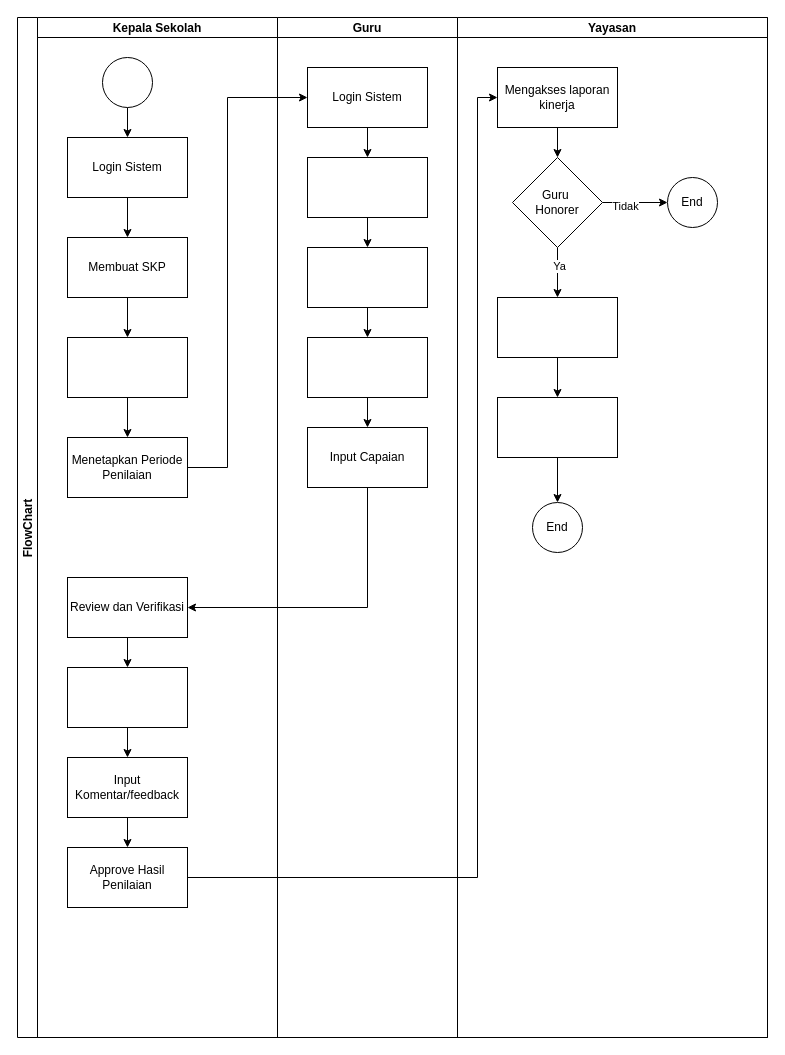
Some shapes in this 785 by 1055 pixel diagram are drawn without their labels. The shapes that lost their labels are listed below. From the top down, each one's centre as x and y in pixels, then its label:
At [127,82]: "Start".
At [367,187]: "Memilih SKP".
At [367,277]: "Memilih Periode".
At [557,327]: "Evaluasi".
At [127,367]: "Input Kriteria Penilaian".
At [367,367]: "Upload Bukti Kerja".
At [557,427]: "menentukan Tunjangan".
At [127,697]: "Memberikan Penilaian".
